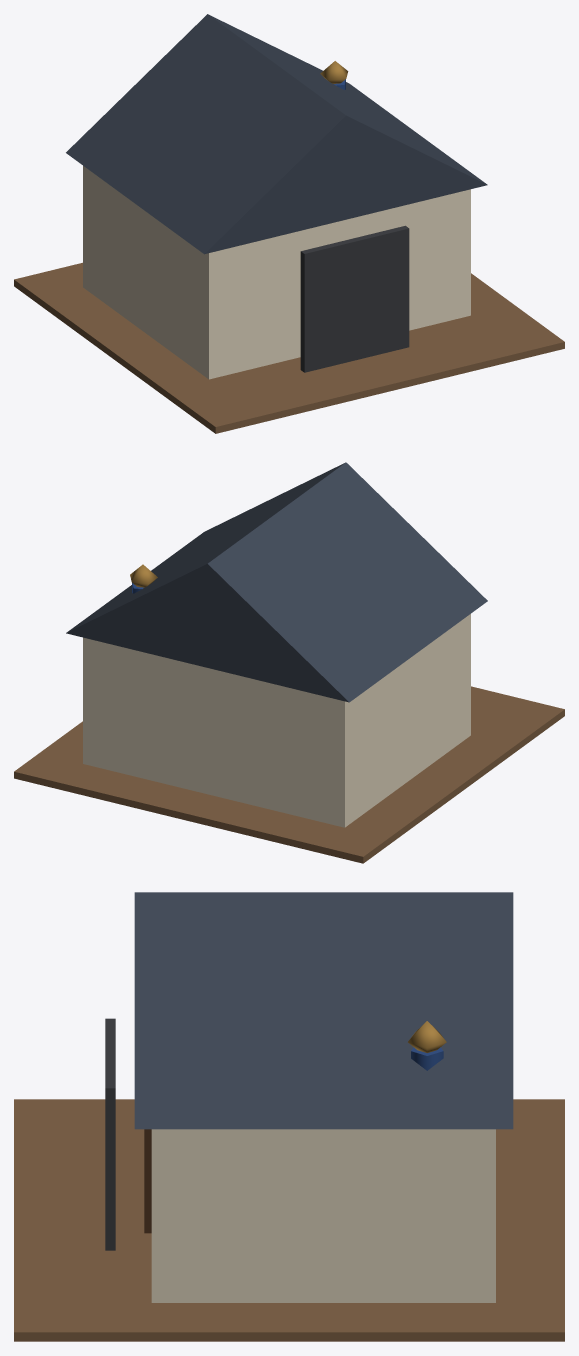
File: bld_special_police_a03_lod2.glb
The picture shows the model from 3 angles, top to bottom: view 1: azimuth 30°, elevation 25°; view 2: azimuth 150°, elevation 25°; view 3: azimuth 270°, elevation 25°; orthographic projection. The views are drawn at different scales.
Parts seen in each view (by area): view 1: body; view 2: body; view 3: body.
Part boxes in pixels (left/top/right/bottom): body: left=14, top=14, right=564, bottom=433; body: left=14, top=462, right=564, bottom=863; body: left=14, top=892, right=564, bottom=1341.
Size of the model in its own units: 8 by 5.33 by 8.
